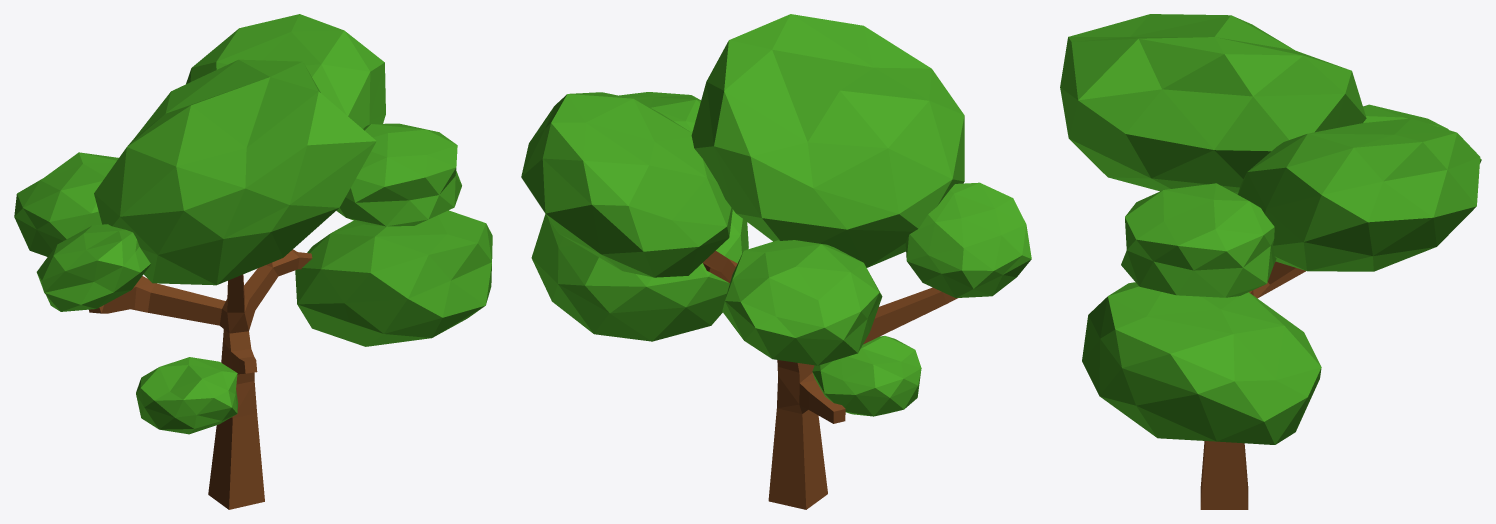
The picture shows the model from 3 angles, left to right: view 1: azimuth 30°, elevation 25°; view 2: azimuth 150°, elevation 25°; view 3: azimuth 270°, elevation 25°; orthographic projection. The views are drawn at different scales.
Parts seen in each view (by area): view 1: 아이코스피어.019, 아이코스피어.021, 큐브.004, 아이코스피어.023, 아이코스피어.020, 아이코스피어.014, 아이코스피어.022, 아이코스피어.024; view 2: 아이코스피어.019, 아이코스피어.023, 아이코스피어.024, 아이코스피어.021, 아이코스피어.014, 큐브.004, 아이코스피어.022, 아이코스피어.020; view 3: 아이코스피어.019, 아이코스피어.021, 아이코스피어.023, 아이코스피어.020, 큐브.004, 아이코스피어.024.
Part boxes in pixels (x1=…): 아이코스피어.019: x1=94, y1=59, x2=376, y2=285; 아이코스피어.021: x1=295, y1=210, x2=492, y2=346; 큐브.004: x1=89, y1=249, x2=312, y2=509; 아이코스피어.023: x1=186, y1=14, x2=385, y2=128; 아이코스피어.020: x1=336, y1=123, x2=461, y2=226; 아이코스피어.014: x1=36, y1=224, x2=150, y2=311; 아이코스피어.022: x1=136, y1=357, x2=238, y2=434; 아이코스피어.024: x1=14, y1=152, x2=118, y2=256; 아이코스피어.019: x1=691, y1=14, x2=964, y2=267; 아이코스피어.023: x1=521, y1=92, x2=732, y2=277; 아이코스피어.024: x1=722, y1=240, x2=882, y2=365; 아이코스피어.021: x1=531, y1=209, x2=748, y2=341; 아이코스피어.014: x1=905, y1=182, x2=1031, y2=297; 큐브.004: x1=703, y1=250, x2=957, y2=509; 아이코스피어.022: x1=812, y1=336, x2=921, y2=416; 아이코스피어.020: x1=619, y1=92, x2=700, y2=132; 아이코스피어.019: x1=1060, y1=14, x2=1366, y2=194; 아이코스피어.021: x1=1082, y1=282, x2=1321, y2=444; 아이코스피어.023: x1=1237, y1=118, x2=1480, y2=271; 아이코스피어.020: x1=1121, y1=183, x2=1276, y2=297; 큐브.004: x1=1200, y1=261, x2=1305, y2=509; 아이코스피어.024: x1=1363, y1=104, x2=1481, y2=163.
Bounding box in the file's own units: 3495 × 3129 × 2461.
